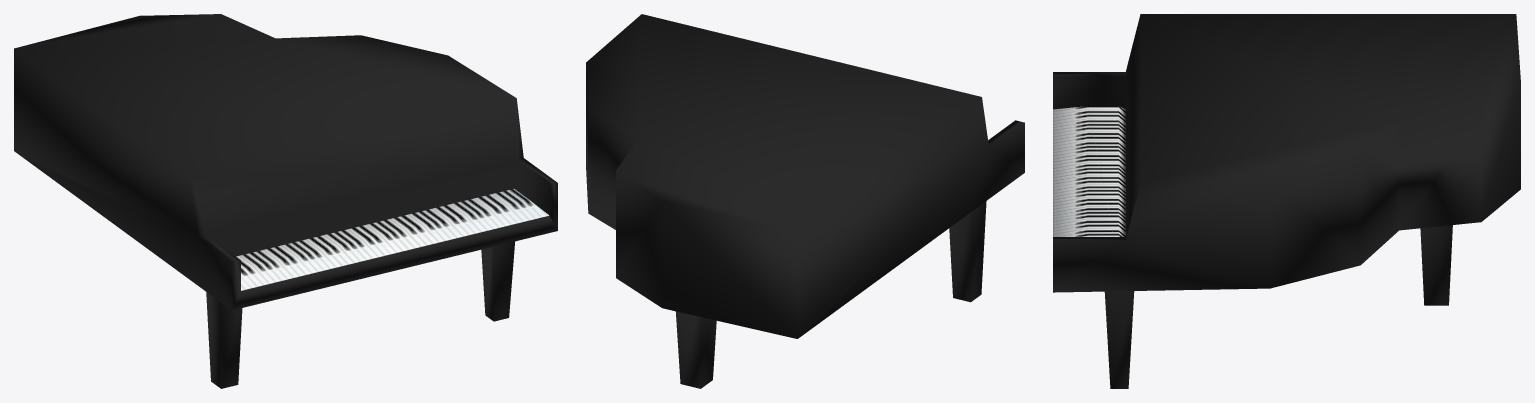
Rendered from piano.fbx.
The picture shows the model from 3 angles, left to right: view 1: azimuth 30°, elevation 25°; view 2: azimuth 150°, elevation 25°; view 3: azimuth 270°, elevation 25°; orthographic projection. The views are drawn at different scales.
Parts seen in each view (by area): view 1: pCube6; view 2: pCube6; view 3: pCube6.
Boxes of the visible parts, x1=… form: pCube6: x1=14, y1=14, x2=557, y2=388; pCube6: x1=586, y1=14, x2=1024, y2=388; pCube6: x1=1053, y1=14, x2=1520, y2=388.
Size of the model in its own units: 2.22 by 1.33 by 2.59.
1 material, 1 textured.
